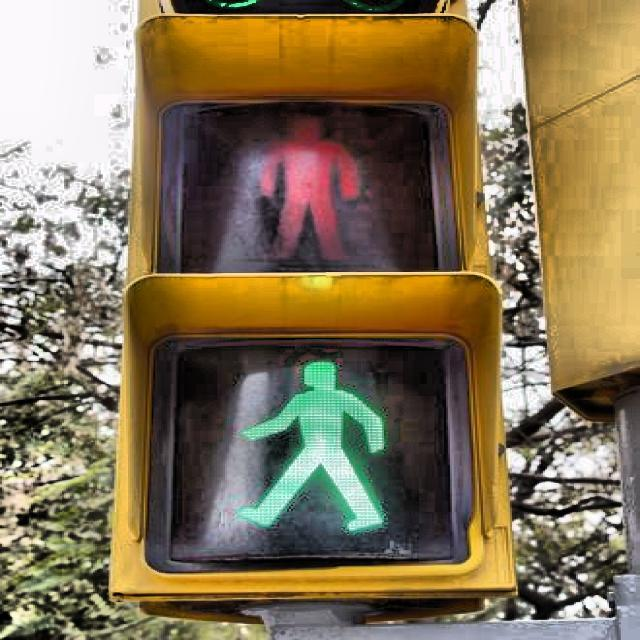green_light: (233, 357, 394, 536)
